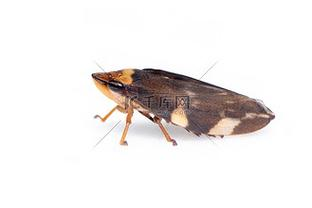Cicadellidae: (91, 68, 276, 146)
